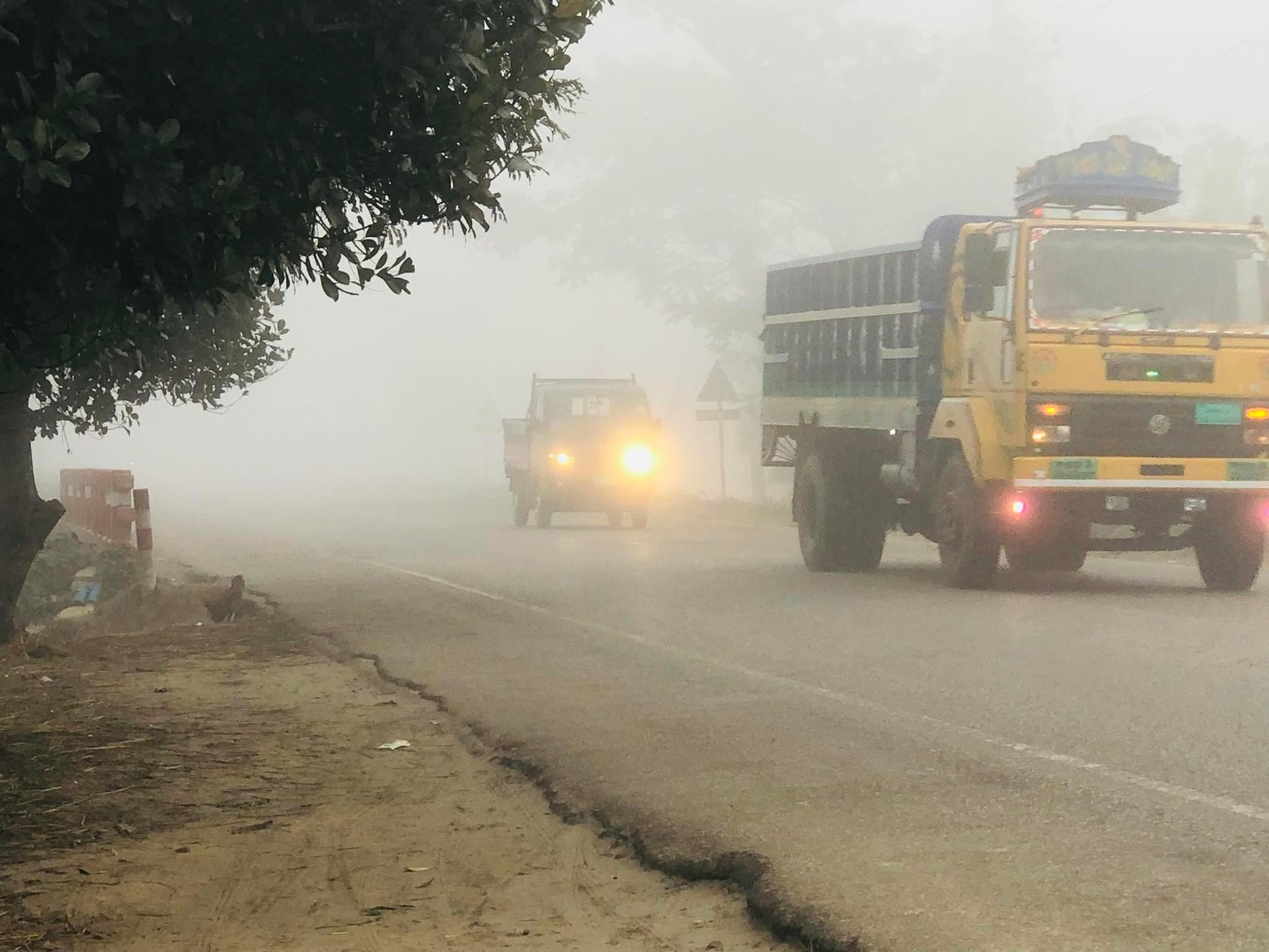Truck: (725, 115, 1269, 647), (464, 363, 685, 536)
